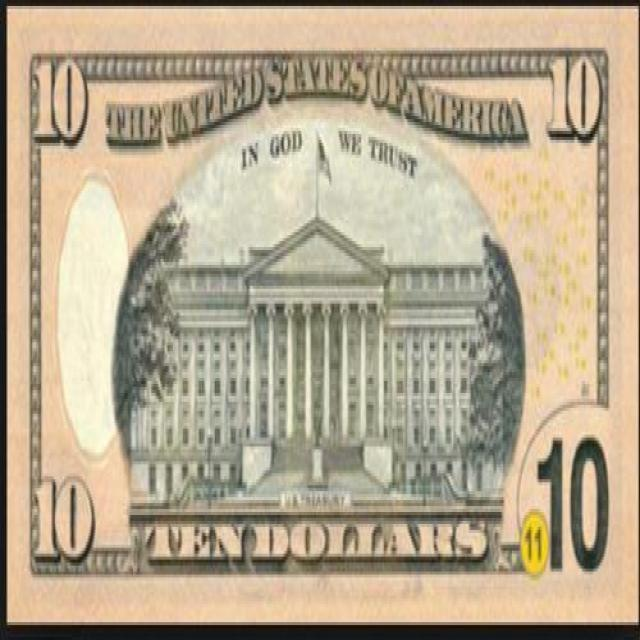10-Back: (7, 6, 638, 622)
